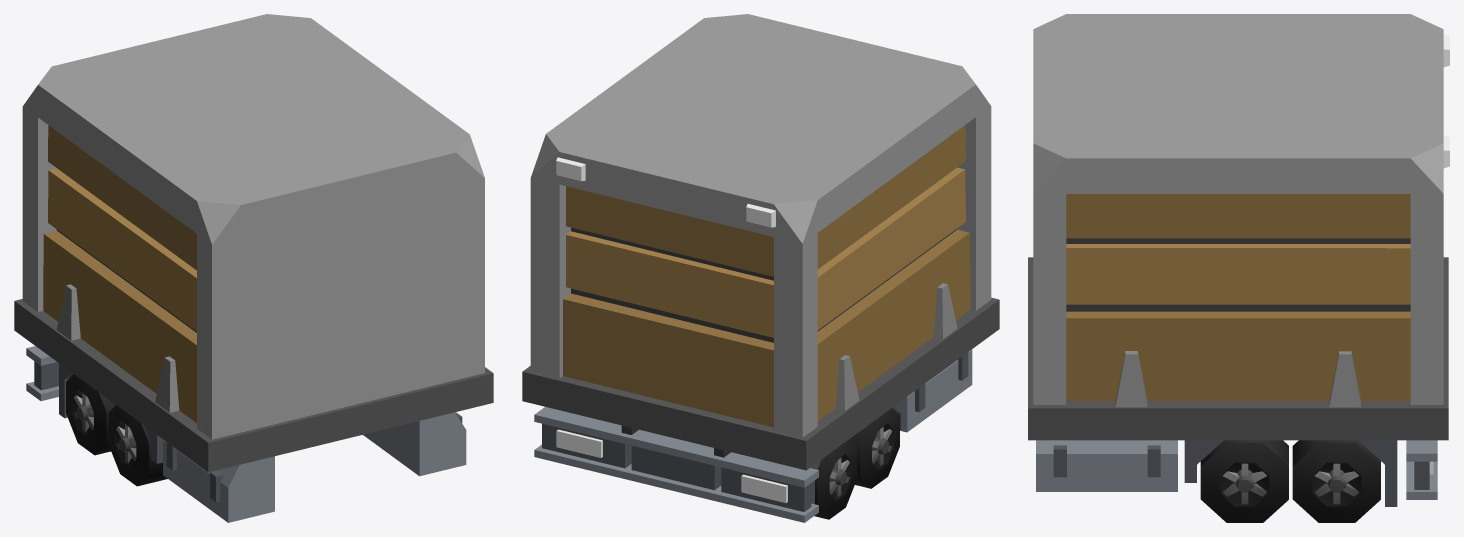
File: cargo_02_D_2.fbx
3 renders of one model, left to right at view 1: azimuth 30°, elevation 25°; view 2: azimuth 150°, elevation 25°; view 3: azimuth 270°, elevation 25°, orthographic. The views are drawn at different scales.
Parts seen in each view (by area): view 1: cargo_02_D_2; view 2: cargo_02_D_2; view 3: cargo_02_D_2.
Part boxes in pixels (<box>): cargo_02_D_2: <box>14,14,493,522</box>; cargo_02_D_2: <box>522,14,999,522</box>; cargo_02_D_2: <box>1028,14,1449,522</box>.
Bounding box in the file's own units: 13.95 × 16.03 × 16.48.
